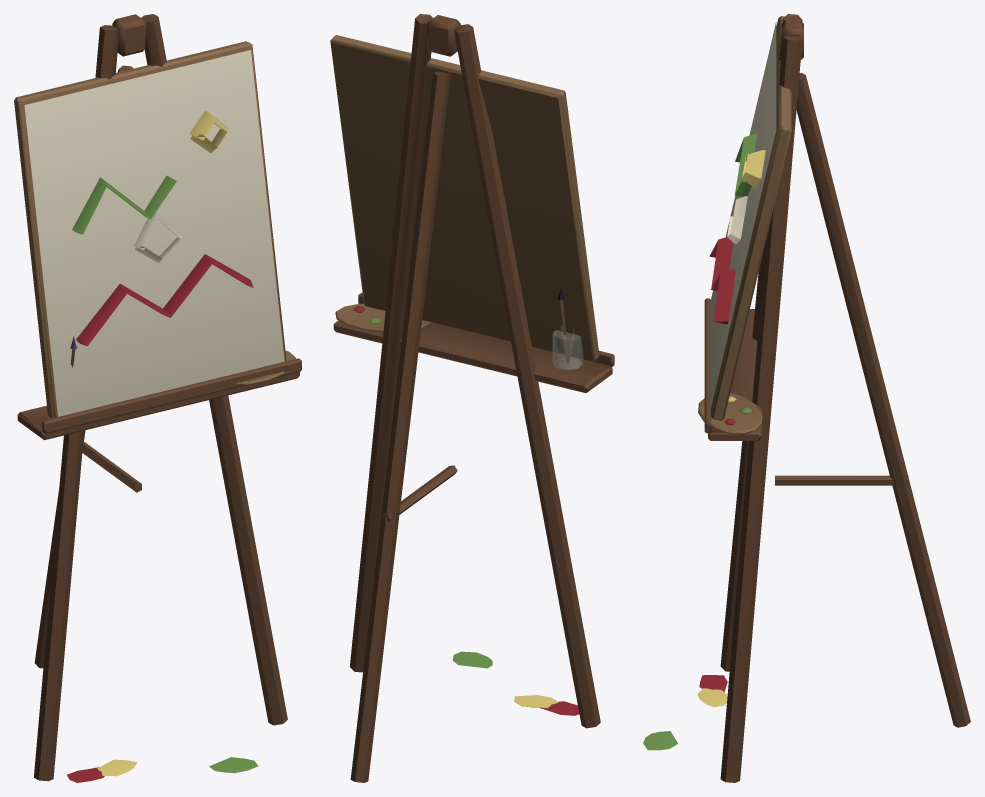
Rendered from easel_morbid.glb.
3 renders of one model, left to right at view 1: azimuth 30°, elevation 25°; view 2: azimuth 150°, elevation 25°; view 3: azimuth 270°, elevation 25°, orthographic.
Visible parts, largest first — view 1: canvas, easel_morbid; view 2: easel_morbid; view 3: easel_morbid, canvas.
Boxes of the visible parts, left/top/right/bottom form: canvas: left=24, top=50, right=284, bottom=416; easel_morbid: left=14, top=14, right=301, bottom=782; easel_morbid: left=330, top=14, right=614, bottom=782; easel_morbid: left=643, top=14, right=970, bottom=782; canvas: left=709, top=22, right=776, bottom=413.
Bounding box in the file's own units: 0.676 × 1.73 × 0.7352.
